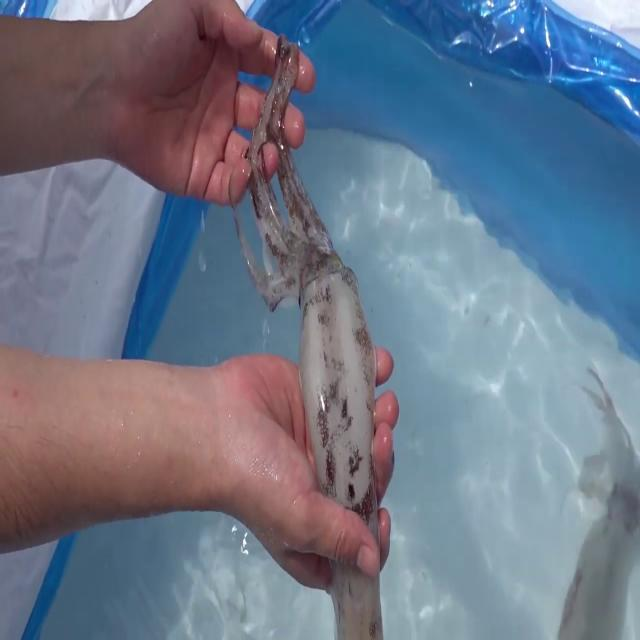squid: (235, 40, 383, 640)
